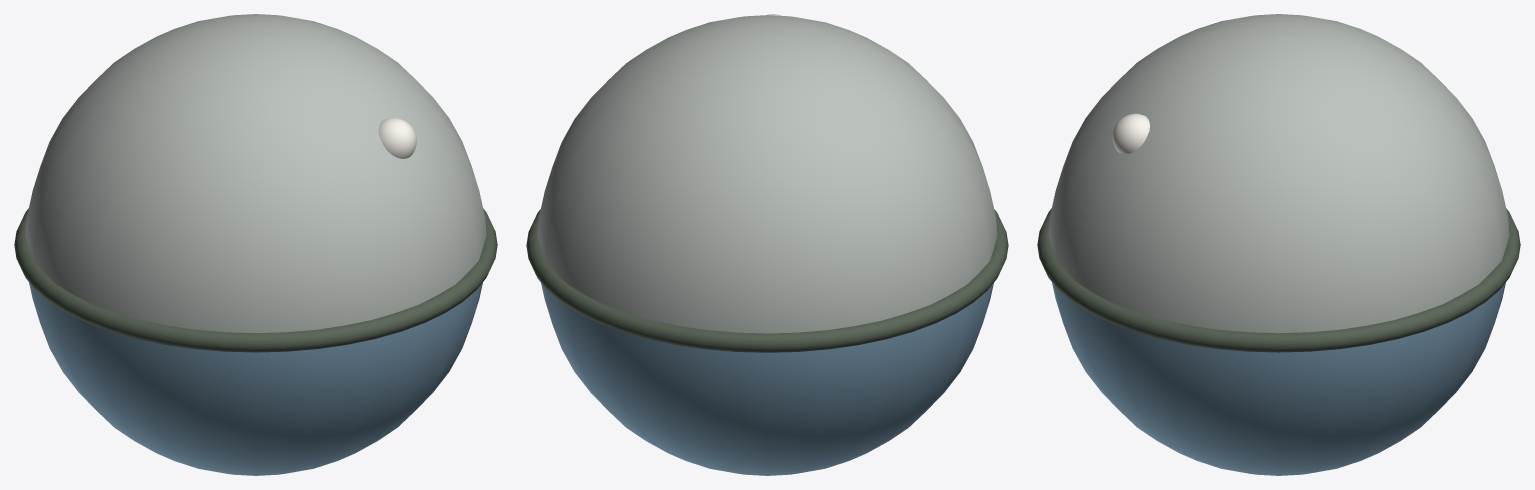
Rendered from hopper-ball-2.glb.
3 renders of one model, left to right at view 1: azimuth 30°, elevation 25°; view 2: azimuth 150°, elevation 25°; view 3: azimuth 270°, elevation 25°, orthographic.
Parts seen in each view (by area): view 1: HopperBall2_Batch0, HopperBall2_Batch1; view 2: HopperBall2_Batch0, HopperBall2_Batch1; view 3: HopperBall2_Batch0, HopperBall2_Batch1.
Part boxes in pixels (left/top/right/bottom): HopperBall2_Batch0: left=25, top=14, right=486, bottom=475; HopperBall2_Batch1: left=14, top=118, right=497, bottom=352; HopperBall2_Batch0: left=537, top=15, right=997, bottom=475; HopperBall2_Batch1: left=526, top=14, right=1008, bottom=352; HopperBall2_Batch0: left=1048, top=14, right=1509, bottom=475; HopperBall2_Batch1: left=1037, top=113, right=1520, bottom=352.
Size of the model in its own units: 0.037 by 0.0354 by 0.037.
